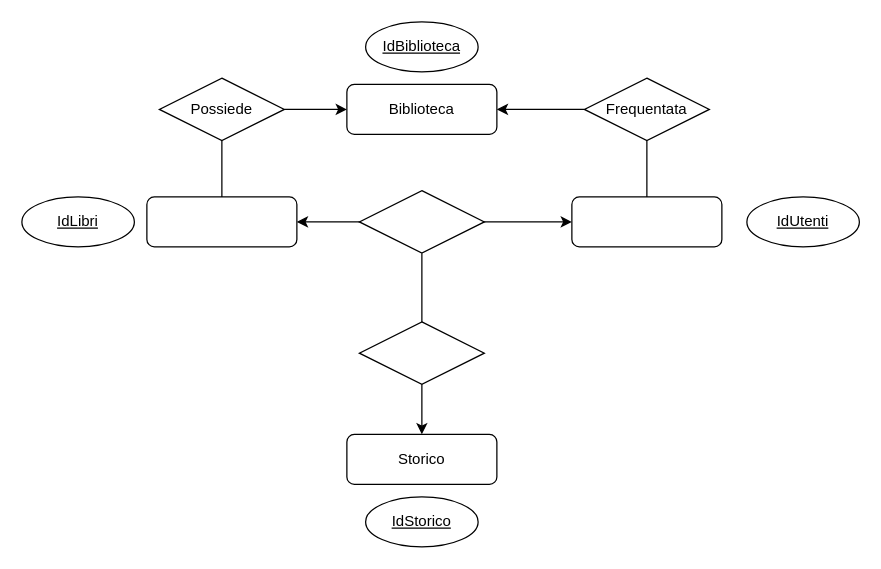
Some shapes in this 881 by 569 pixel diagram are drawn without their labels. Each missing label, with the centre of its shape:
"Libri" goes at point (221, 221).
"Presi/restituiti" goes at point (421, 221).
"Registrati" goes at point (421, 352).
"Utenti" goes at point (646, 221).
